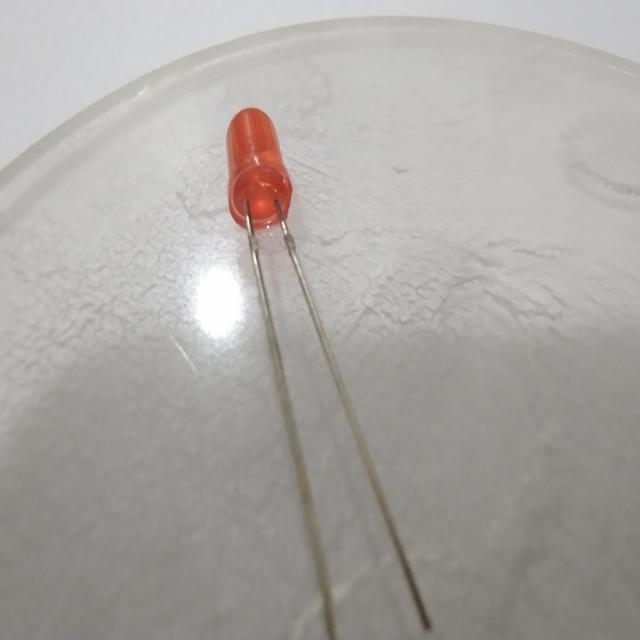red_led: (213, 102, 307, 252)
